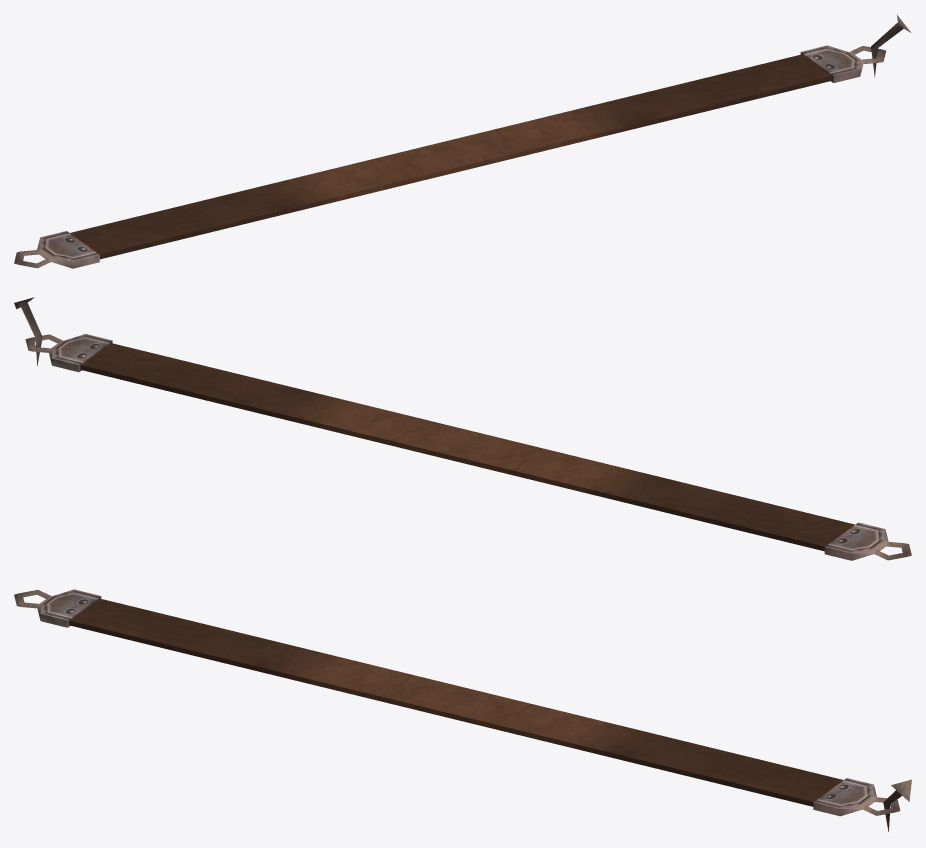
Rendered from shop_barber_strop.fbx.
3 views of the same model, one above another, from view 1: azimuth 30°, elevation 25°; view 2: azimuth 150°, elevation 25°; view 3: azimuth 330°, elevation 25° (orthographic).
Visible parts, largest first — view 1: strop_leather, strop_end02, strop_end01; view 2: strop_leather, strop_end02, strop_end01; view 3: strop_leather, strop_end01, strop_end02.
Boxes of the visible parts, left/top/right/bottom form: strop_leather: left=70, top=54, right=831, bottom=259; strop_end02: left=14, top=231, right=99, bottom=268; strop_end01: left=800, top=45, right=886, bottom=82; strop_leather: left=80, top=343, right=854, bottom=551; strop_end02: left=824, top=522, right=911, bottom=560; strop_end01: left=25, top=334, right=112, bottom=372; strop_leather: left=69, top=598, right=843, bottom=806; strop_end01: left=813, top=778, right=900, bottom=816; strop_end02: left=14, top=589, right=101, bottom=627.
Bounding box in the file's own units: 180 × 11.31 × 11.57.
1 material, 1 textured.
